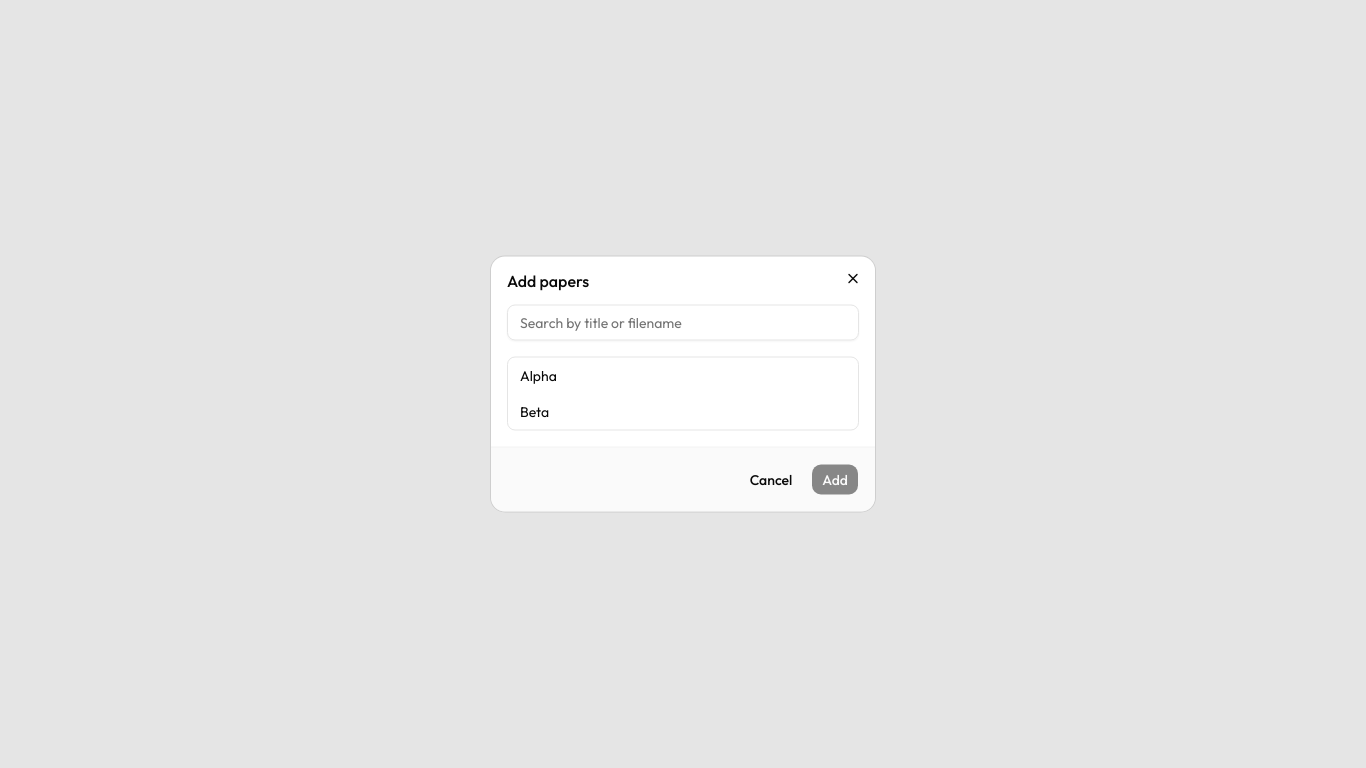
PaperPickerDialog › Add button disabled when zero selected
expect the text "Alpha" is shown: met, box [520, 366, 557, 386]
expect the button "Add" is disabled: met, box [811, 464, 859, 496]
Click the button "Alpha" at (538, 376), box [508, 358, 858, 394]
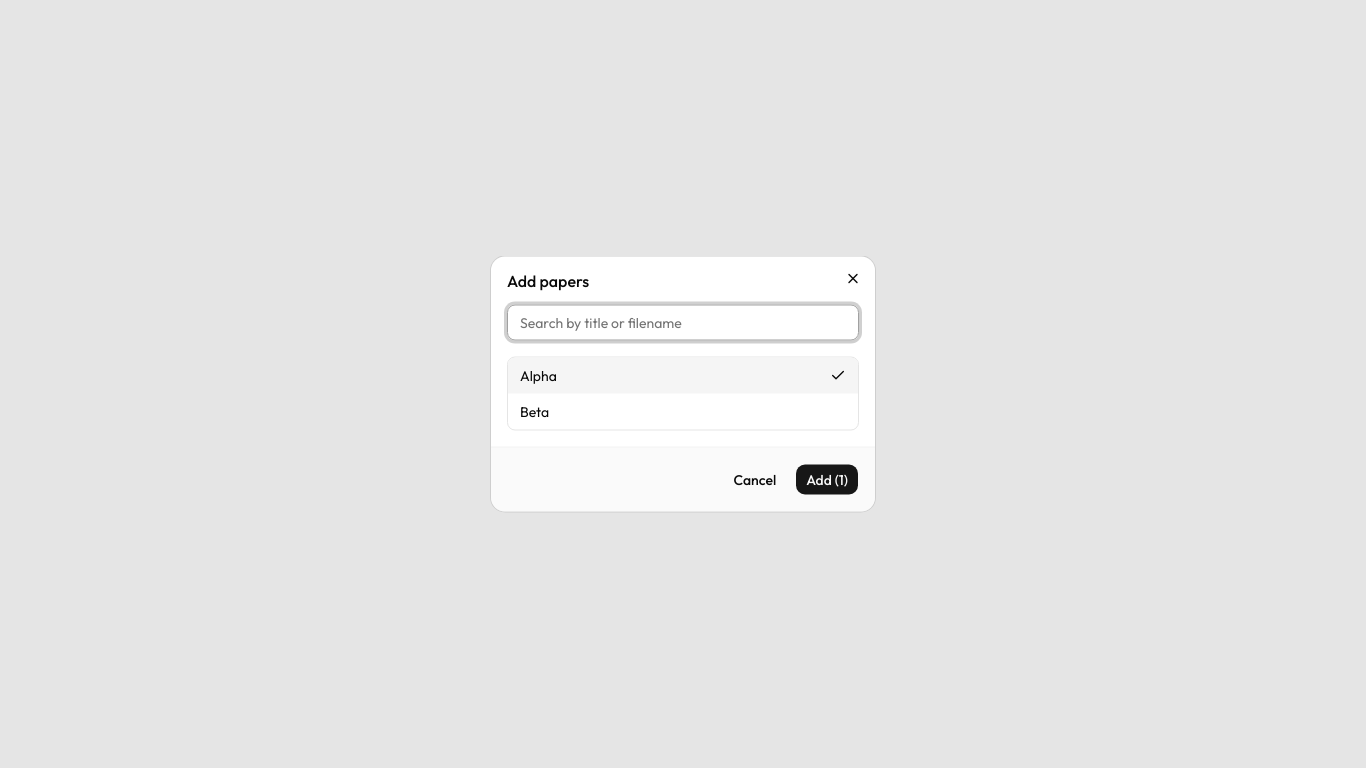
expect the button "Add (1)" is enabled: met, box [795, 464, 859, 496]
